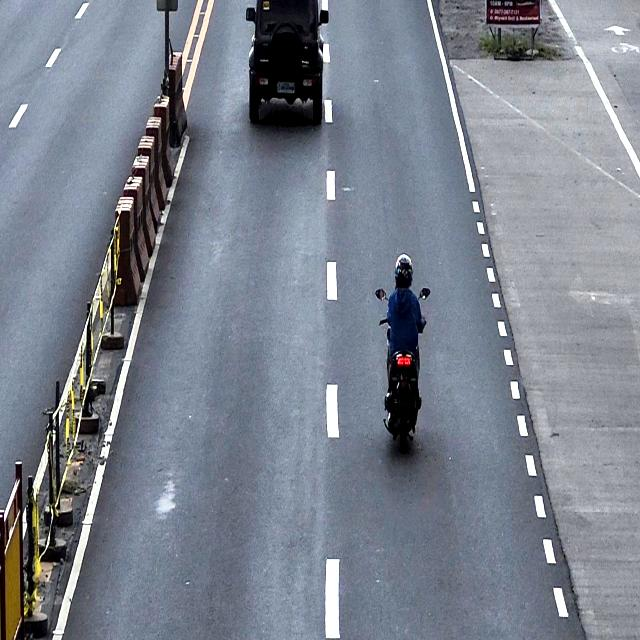Car: (245, 0, 328, 124)
License-Plate: (276, 80, 295, 94)
Motorcycle: (374, 286, 430, 451)
